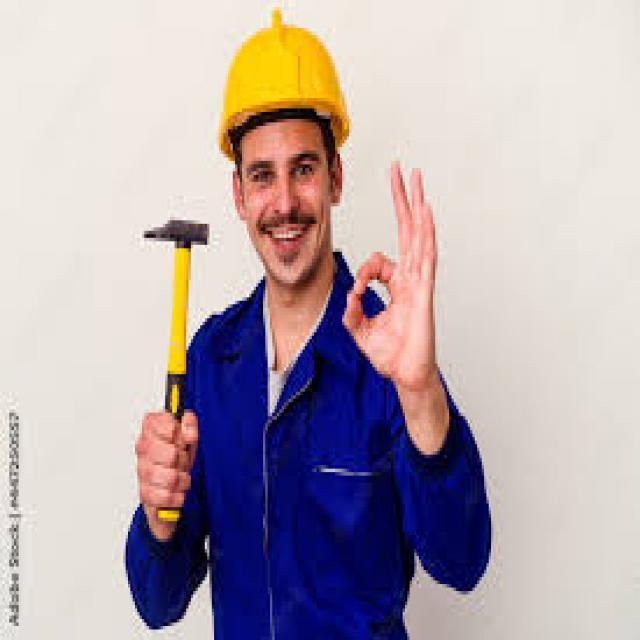hammer: (129, 212, 218, 544)
